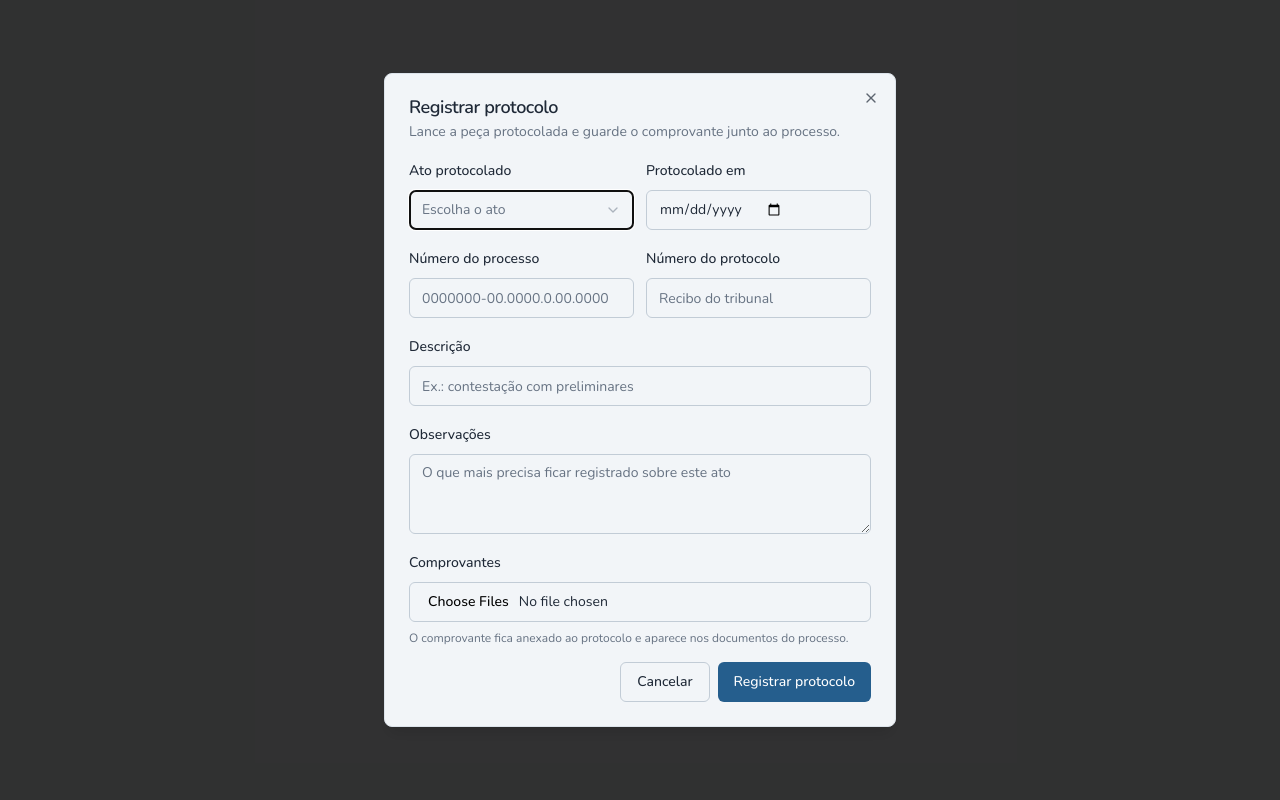
ProtocoloDialog › exige o tipo do ato e a data do protocolo
The width and height of the screenshot is (1280, 800).
Click the button "Registrar protocolo".
click(794, 682)  # box [718,662,871,702]
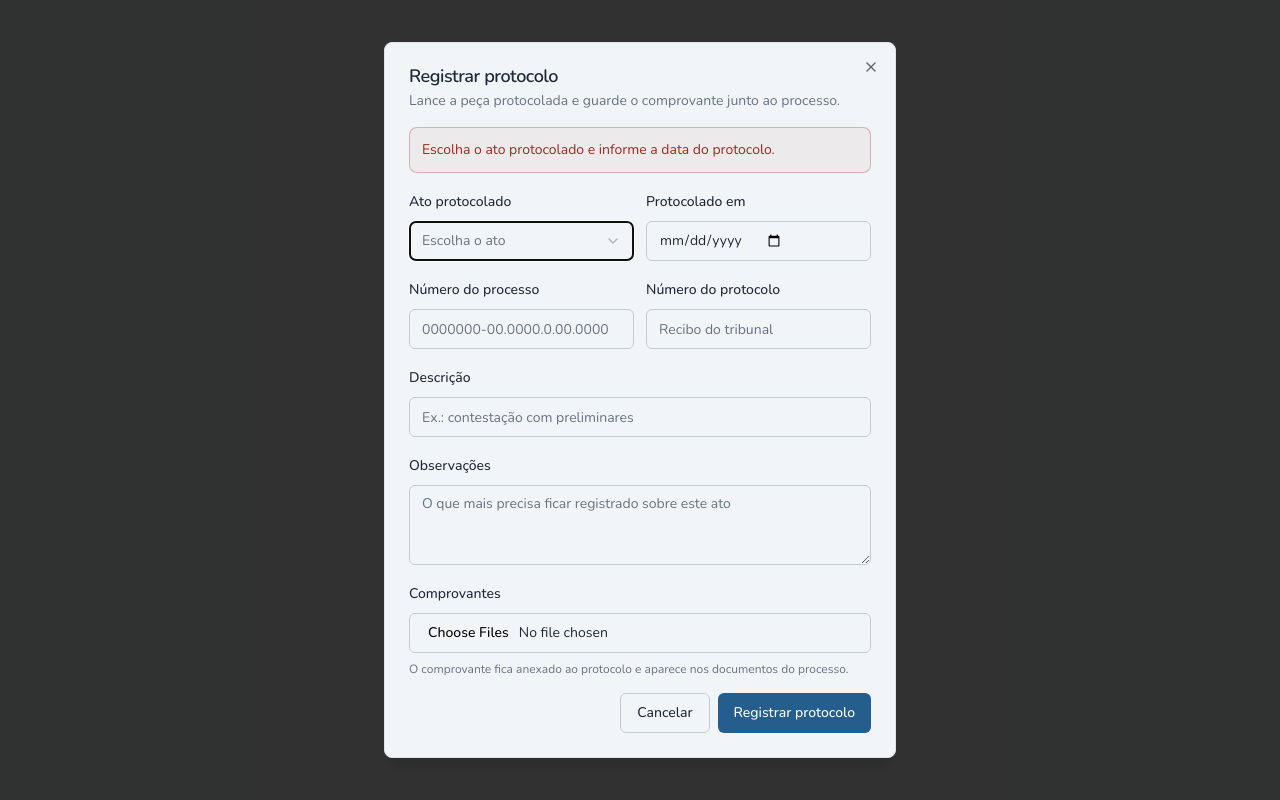
expect the message reads "Escolha o ato protocolado e informe a data do protocolo.": met, box [422,140,775,159]
